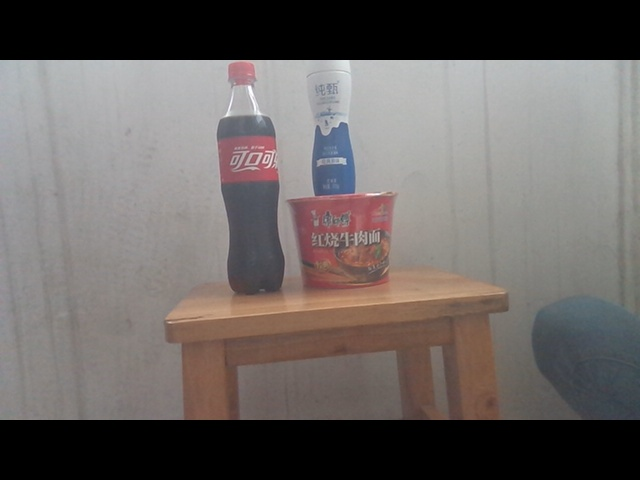cola: (217, 62, 289, 297)
kangshifu: (287, 190, 400, 292)
yogurt: (304, 58, 357, 195)
